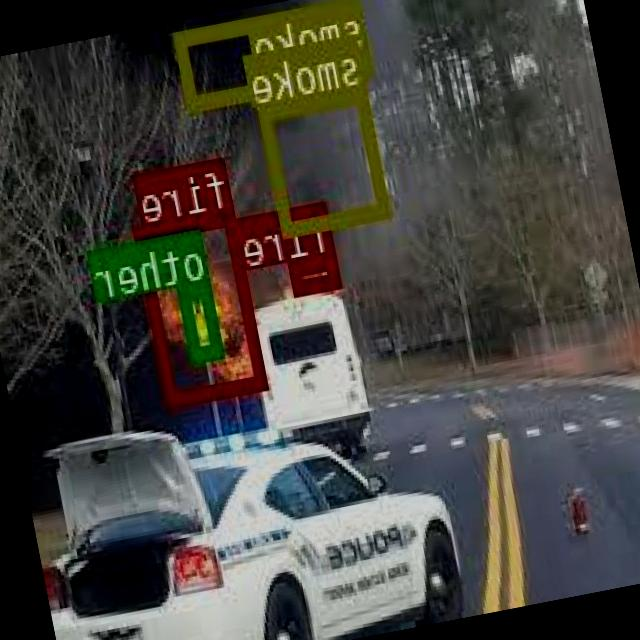fire: (135, 206, 269, 404), (290, 250, 342, 294)
smoke: (175, 0, 375, 108), (260, 82, 393, 234)
